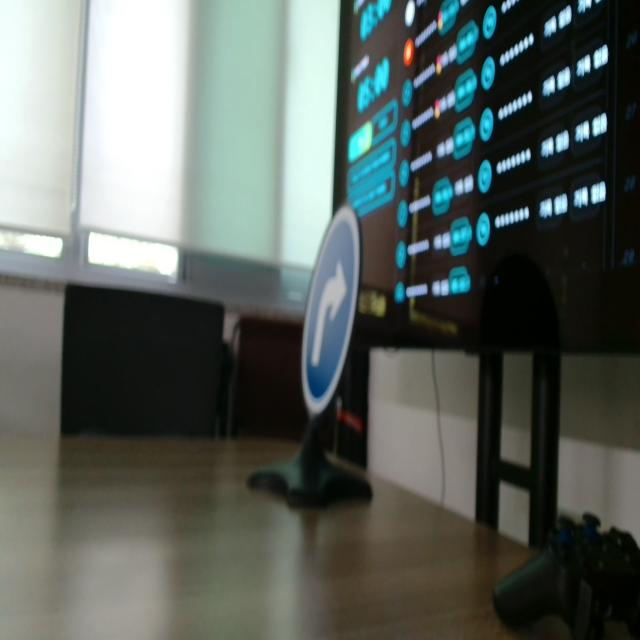right_dierection: (299, 185, 373, 442)
